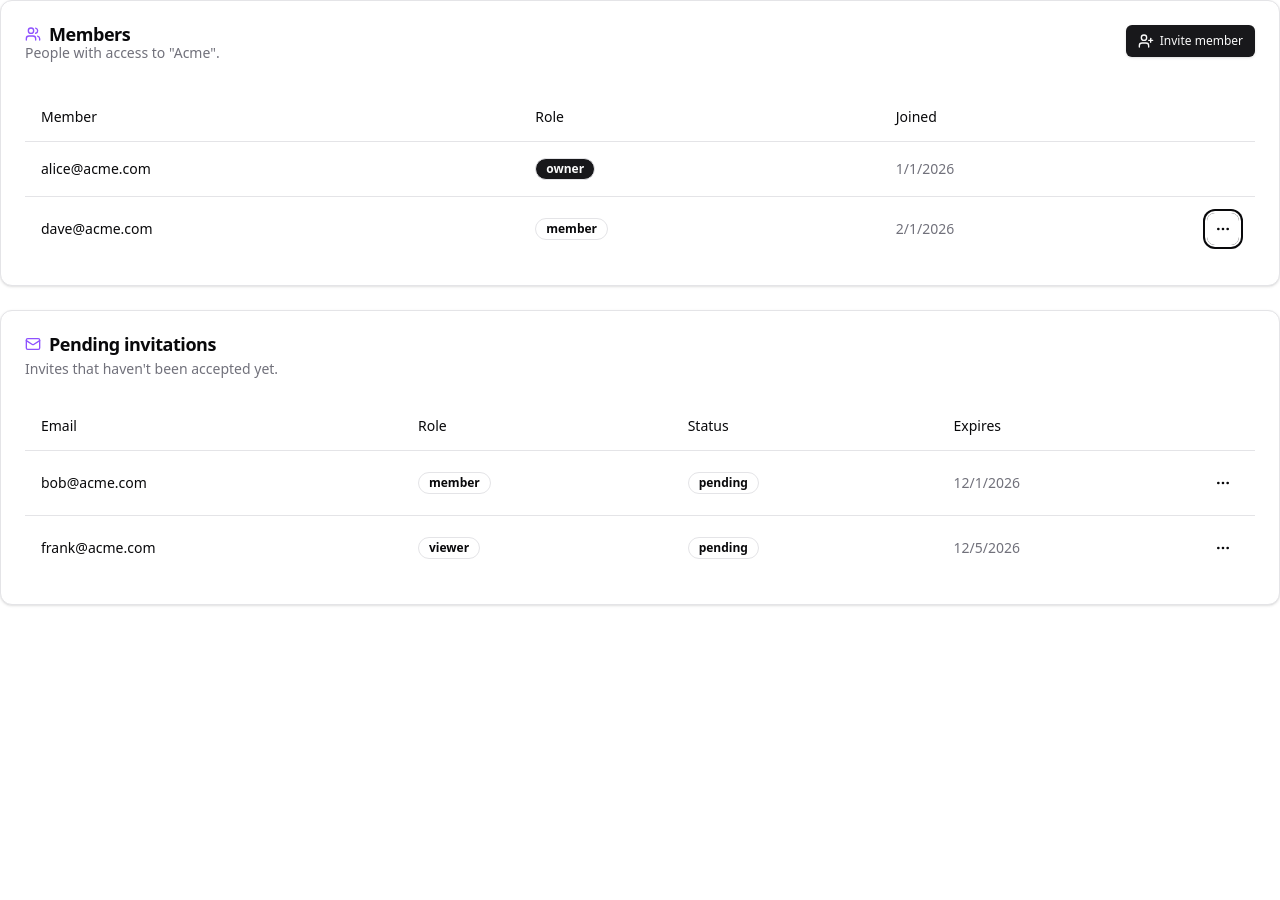
Test: WorkspaceMembers › removes a member after confirming in the alert dialog
Check: the text "dave@acme.com" is shown, box [25,196,519,260]
Press Enter in the button named "manage dave@acme.com", box [1207,212,1239,244]
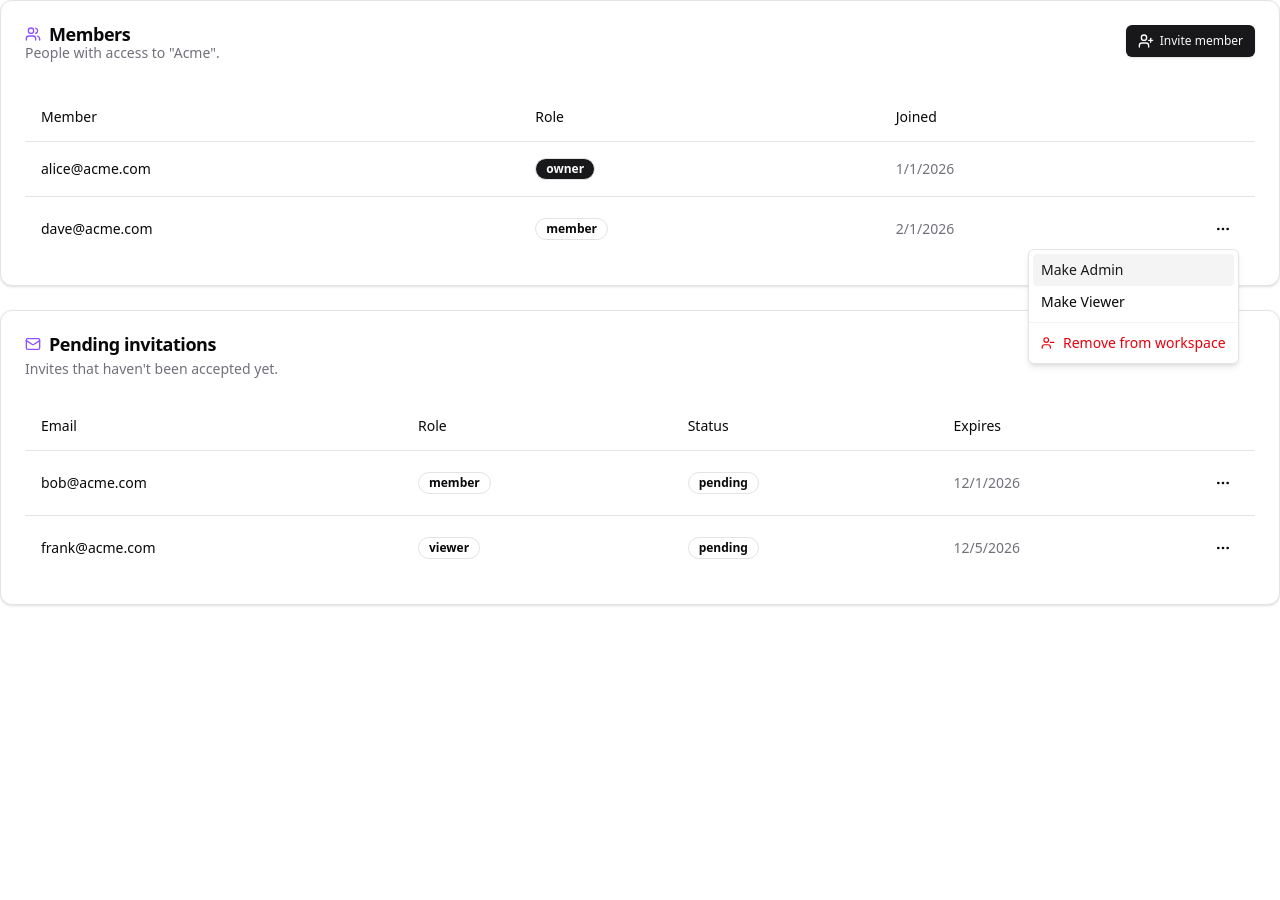
Click the menu item "Remove from workspace": [1133, 342] box [1041,333,1226,352]
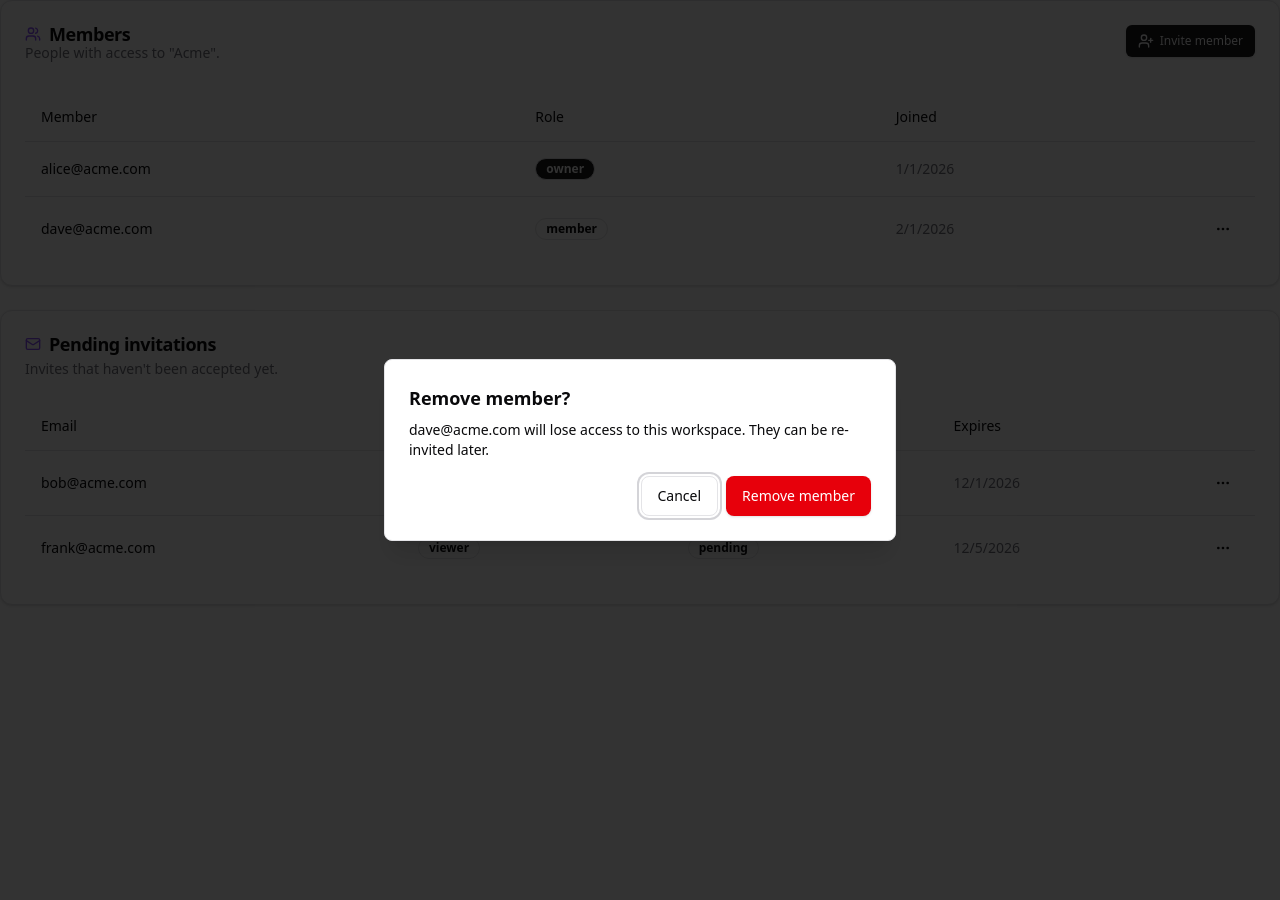
Click the button "Remove member": [799, 496] box [726,476,871,516]
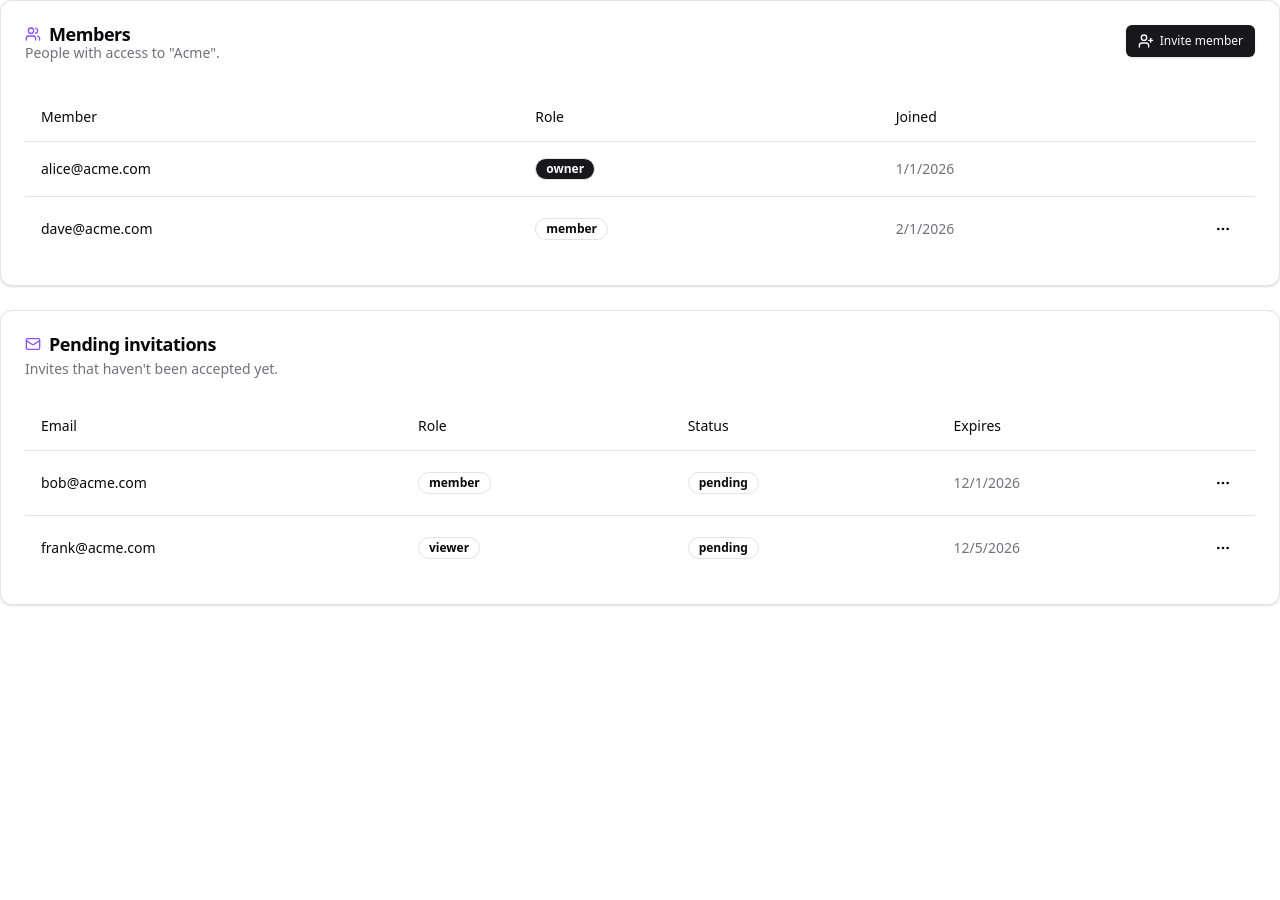
Check: the dialog is gone
